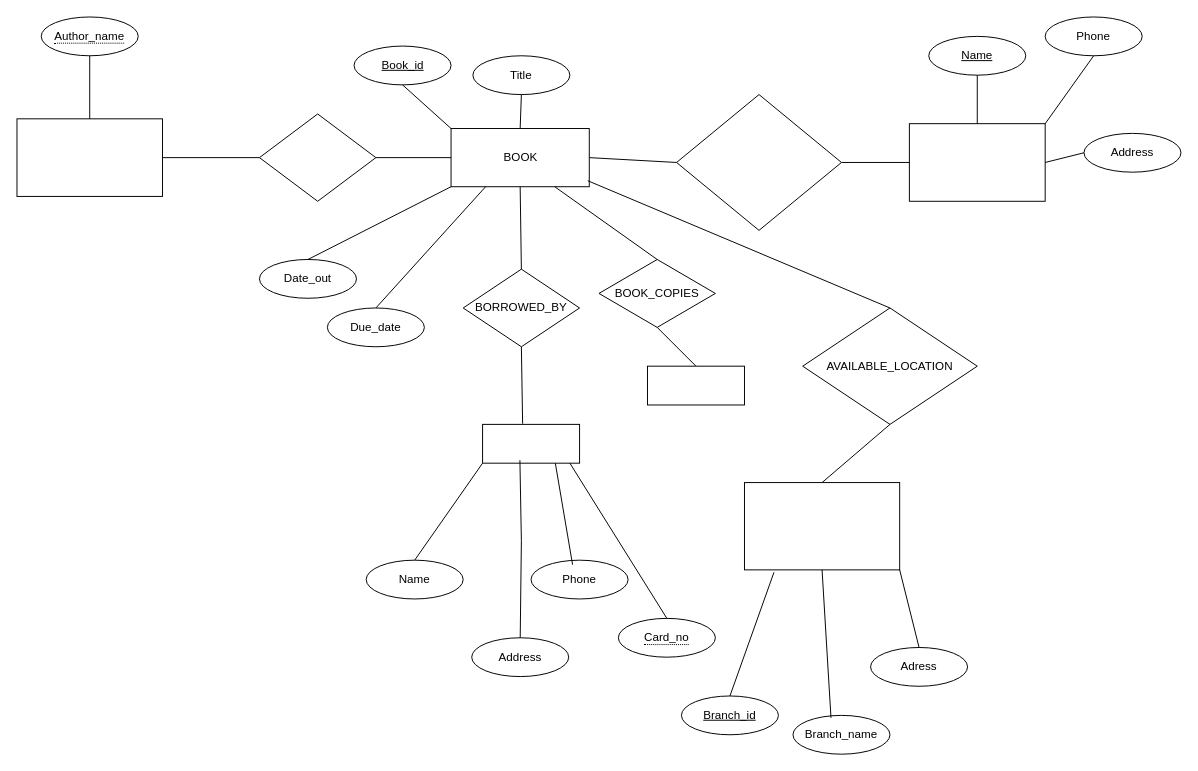
The diagram is 1198 pixels wide and 771 high, and some of its shapes have lost their labels. Each missing label, with the centre of its shape:
"AUTHOR" goes at pixel 89 157.
"BORROWER" goes at pixel 531 443.
"LIBRARY_BRANCH" goes at pixel 822 526.
"No_of_copies" goes at pixel 695 385.
"PUBLISHED_BY" goes at pixel 758 162.
"PUBLISHER" goes at pixel 976 162.
"WRITTEN_BY" goes at pixel 317 157.
